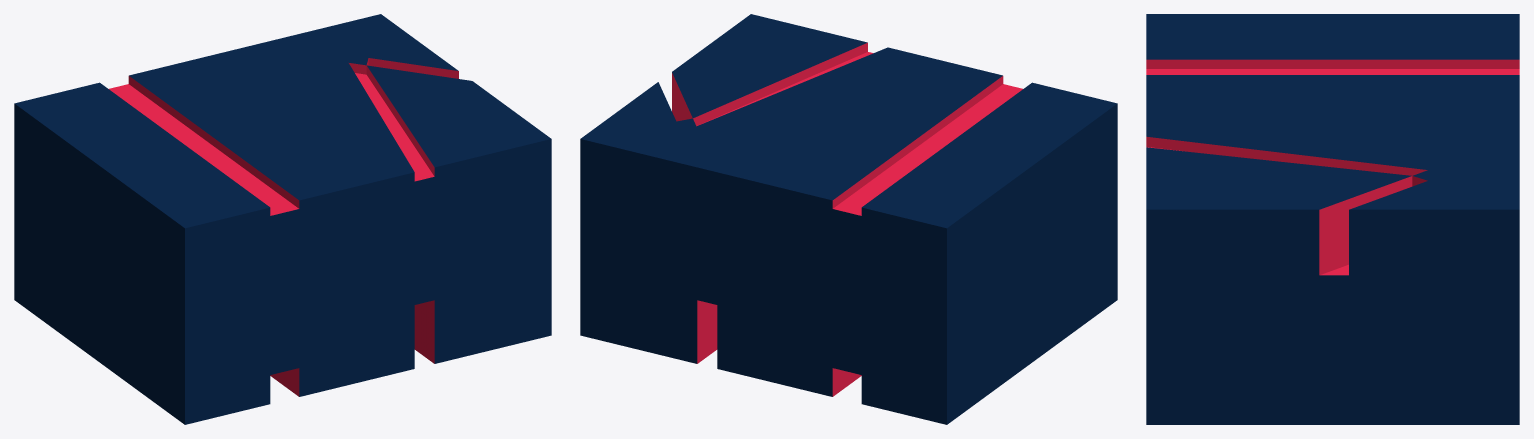
The model's file is Platform04.fbx.
3 views of the same model, side by side, from view 1: azimuth 30°, elevation 25°; view 2: azimuth 150°, elevation 25°; view 3: azimuth 270°, elevation 25° (orthographic). The views are drawn at different scales.
Parts seen in each view (by area): view 1: Box069; view 2: Box069; view 3: Box069.
Part boxes in pixels (x1,y1,x2,y2): Box069: (14, 14, 551, 424); Box069: (580, 14, 1117, 424); Box069: (1146, 14, 1519, 424).
Size of the model in its own units: 145 by 74.29 by 117.
